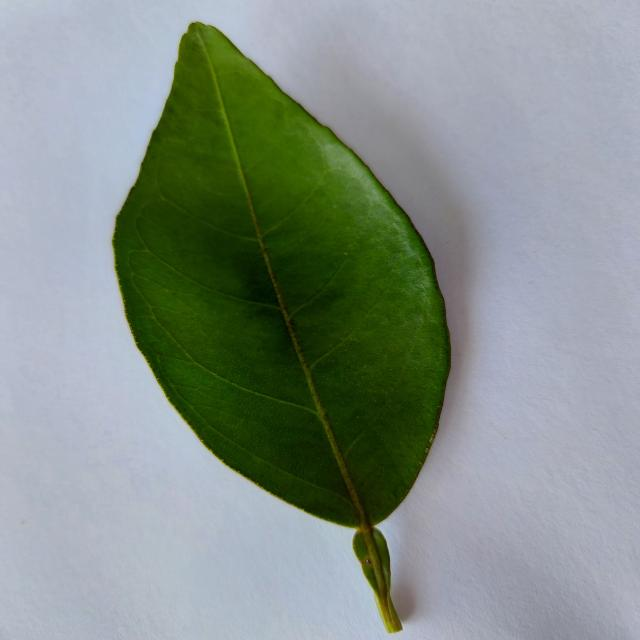greening: (113, 23, 450, 630)
